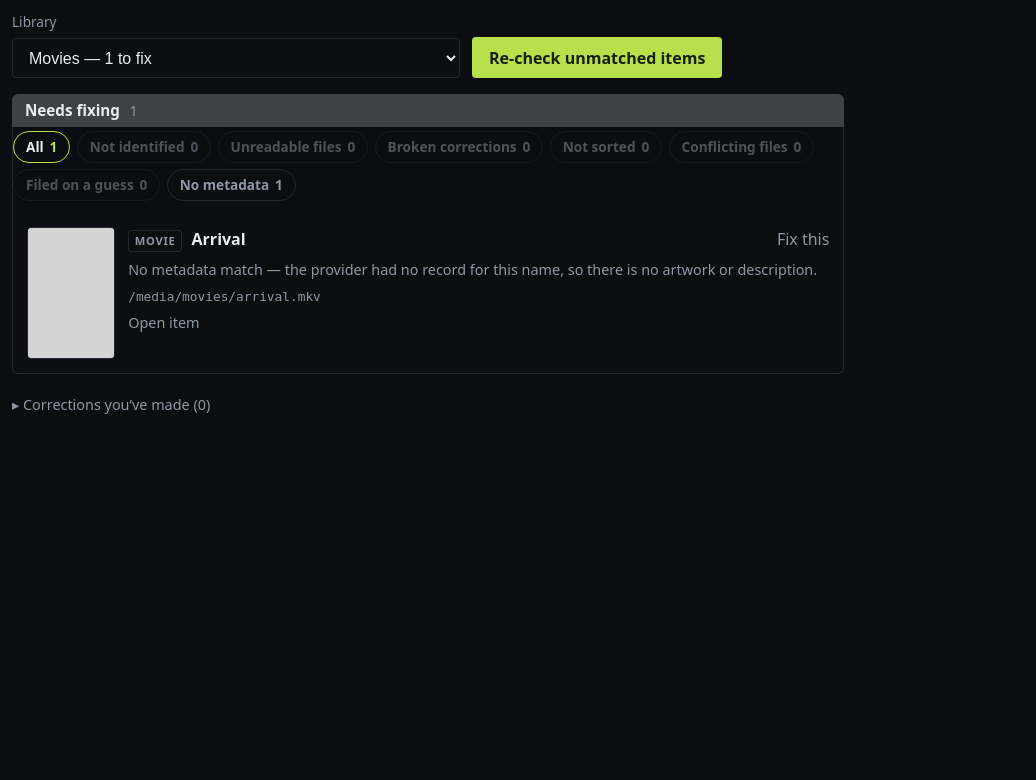
Scenario: AdminNeedsFixingScreen — fixing without typing an id › searches on open and offers the top hit as the best guess
Click the button with test id "fix-item-toggle" at [803, 239], box top-left (777, 227), bottom-right (829, 251)
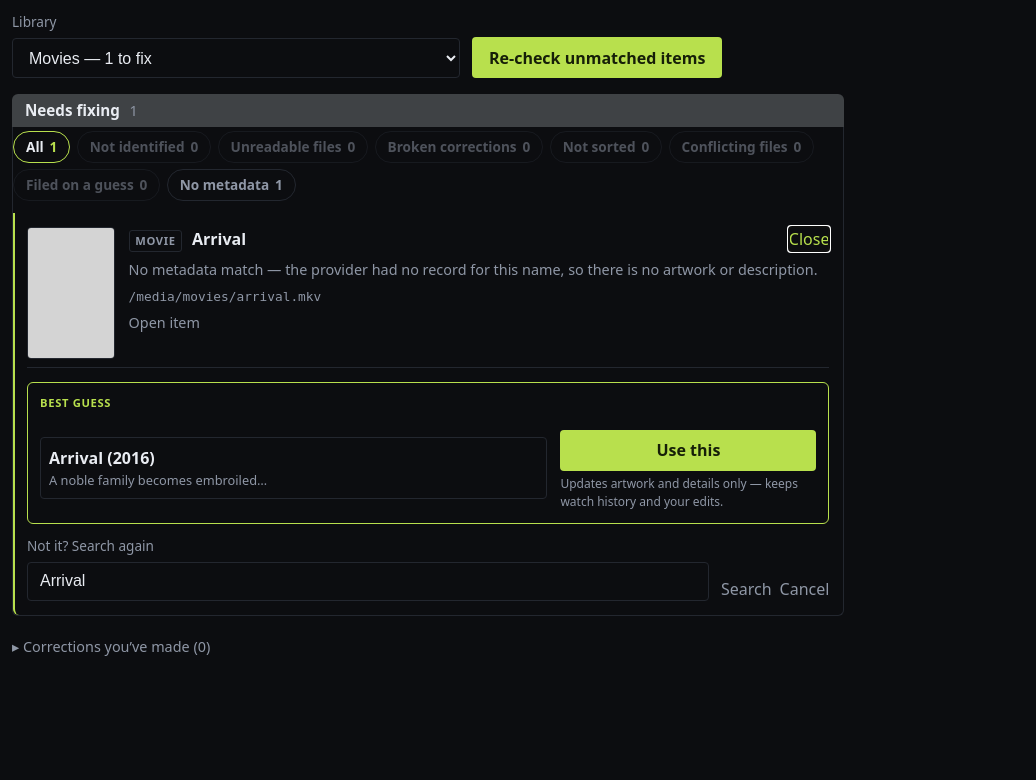
expect the element with test id "fix-best-guess" is shown: met, box top-left (27, 382), bottom-right (829, 524)
expect the text with test id "fix-candidate-title" reads "Arrival (2016)": met, box top-left (49, 446), bottom-right (155, 468)
